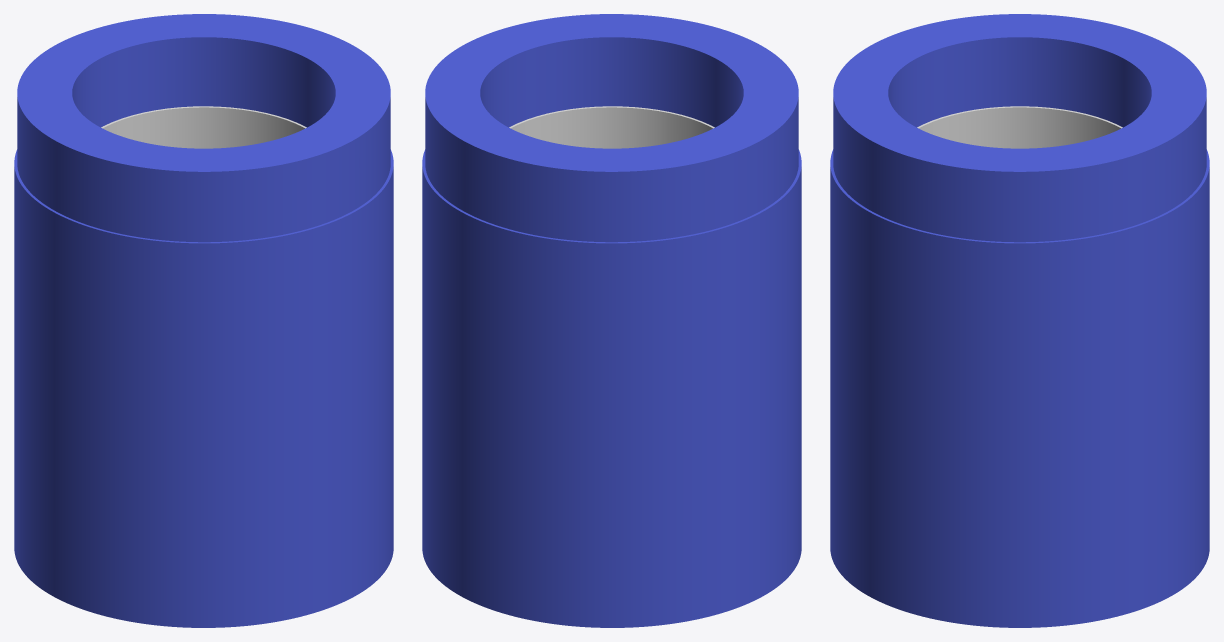
The model's file is BunkerFloor1Collider.fbx.
The picture shows the model from 3 angles, left to right: view 1: azimuth 30°, elevation 25°; view 2: azimuth 150°, elevation 25°; view 3: azimuth 270°, elevation 25°; orthographic projection.
Parts seen in each view (by area): view 1: Bunker.010; view 2: Bunker.010; view 3: Bunker.010.
Part boxes in pixels (x1=…): Bunker.010: x1=14, y1=14, x2=393, y2=627; Bunker.010: x1=422, y1=14, x2=801, y2=627; Bunker.010: x1=830, y1=14, x2=1209, y2=627.
Bounding box in the file's own units: 14.53 × 19.22 × 14.53.
